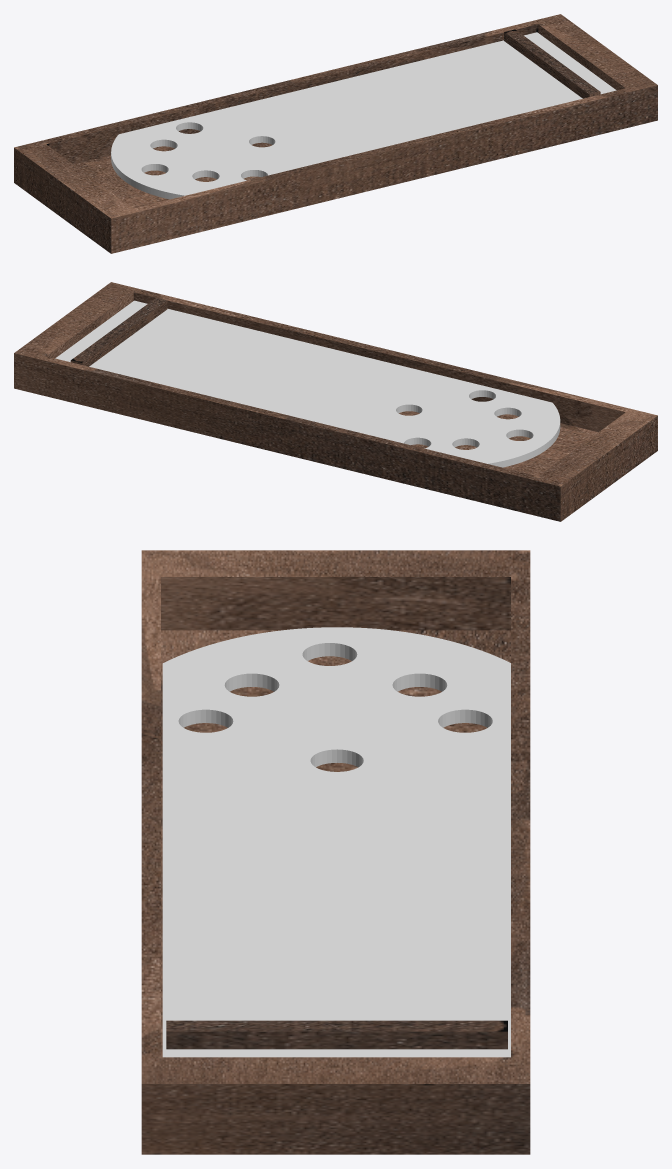
File: Table_Billard.fbx
The picture shows the model from 3 angles, top to bottom: view 1: azimuth 30°, elevation 25°; view 2: azimuth 150°, elevation 25°; view 3: azimuth 270°, elevation 25°; orthographic projection. The views are drawn at different scales.
Parts seen in each view (by area): view 1: Base, Planche, Batton; view 2: Base, Planche, Batton; view 3: Planche, Base, Batton.
Part boxes in pixels (bbox=[...]): Base: bbox=[14, 14, 657, 253]; Planche: bbox=[111, 32, 616, 199]; Batton: bbox=[504, 29, 600, 98]; Base: bbox=[14, 282, 657, 521]; Planche: bbox=[55, 300, 560, 467]; Batton: bbox=[70, 298, 167, 366]; Planche: bbox=[162, 627, 510, 1057]; Base: bbox=[141, 550, 530, 1154]; Batton: bbox=[166, 1020, 507, 1049].
Size of the model in its own units: 573 by 36.67 by 176.
